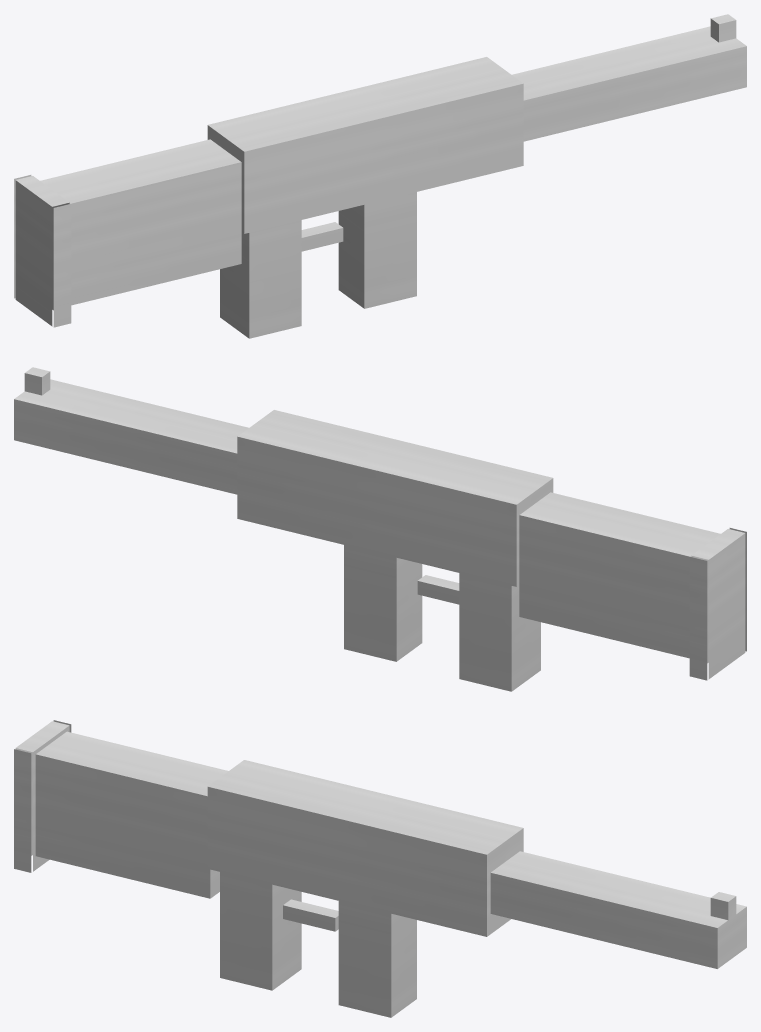
Rendered from chain_shotgun.obj.
3 views of the same model, one above another, from view 1: azimuth 30°, elevation 25°; view 2: azimuth 150°, elevation 25°; view 3: azimuth 330°, elevation 25° (orthographic).
Visible parts, largest first — view 1: chain_shotgun; view 2: chain_shotgun; view 3: chain_shotgun.
Part boxes in pixels (left/top/right/bottom): chain_shotgun: left=14, top=14, right=746, bottom=338; chain_shotgun: left=14, top=367, right=746, bottom=691; chain_shotgun: left=14, top=720, right=746, bottom=1017.
Bounding box in the file's own units: 0.8 × 0.21 × 0.0788.
